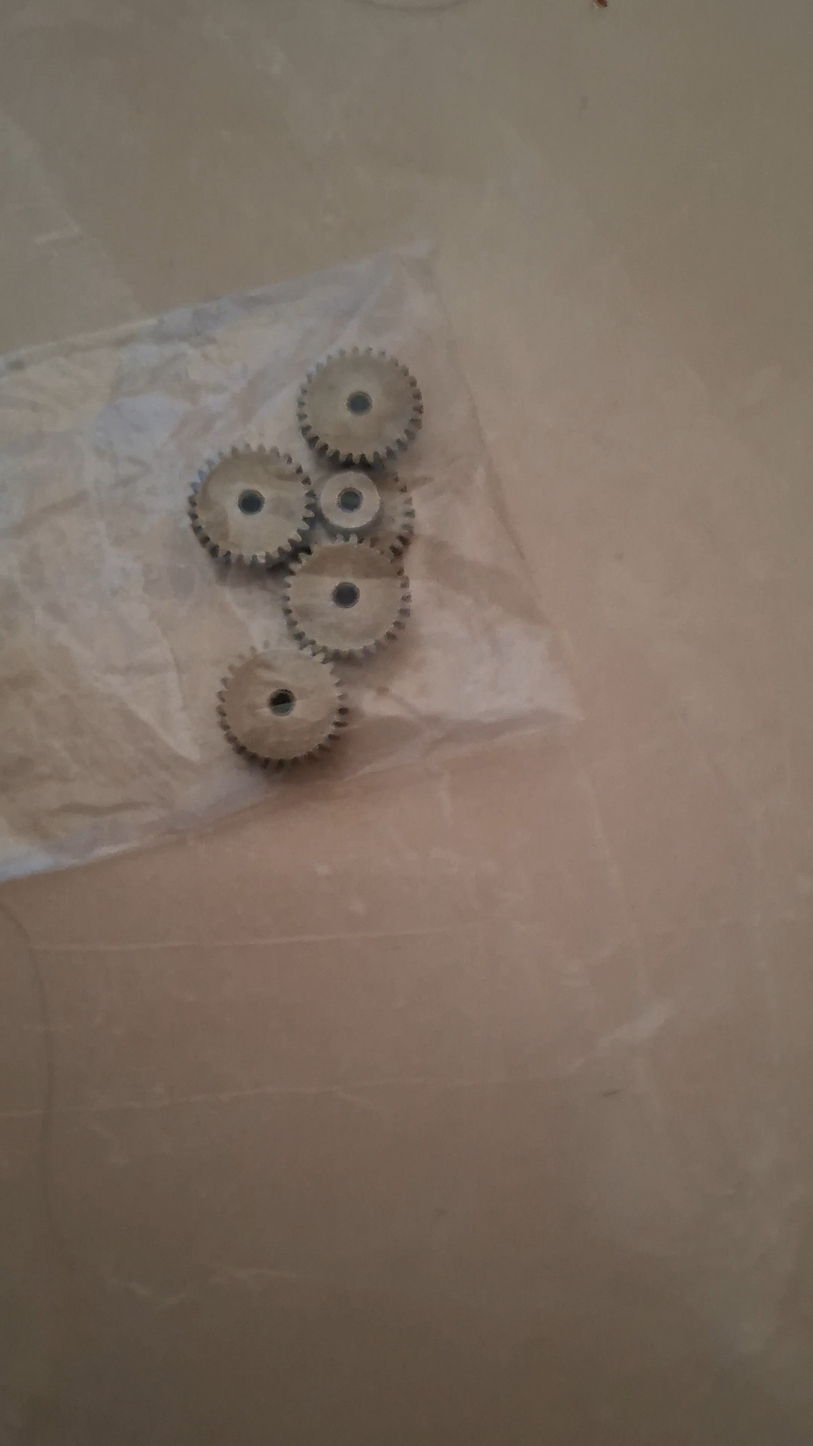spur gear: (283, 539, 410, 657), (218, 650, 347, 765), (189, 447, 314, 565), (298, 348, 423, 465), (309, 469, 414, 555)
